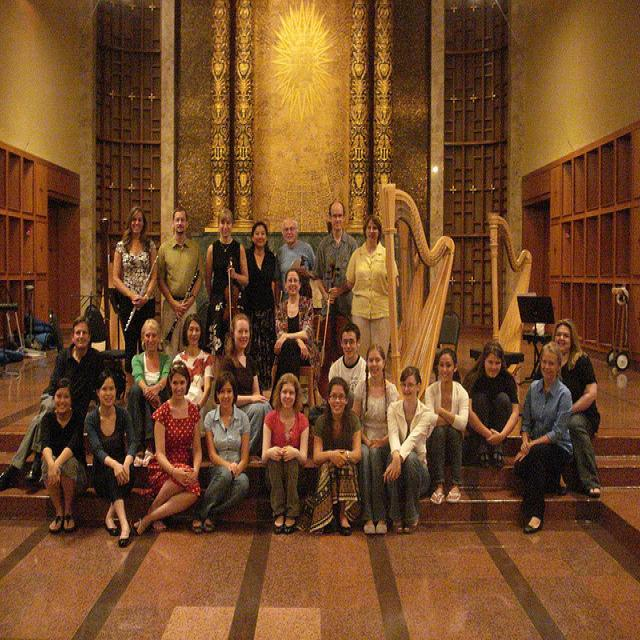clarinet: (161, 268, 201, 345)
harp: (378, 177, 455, 405), (488, 210, 533, 373)
